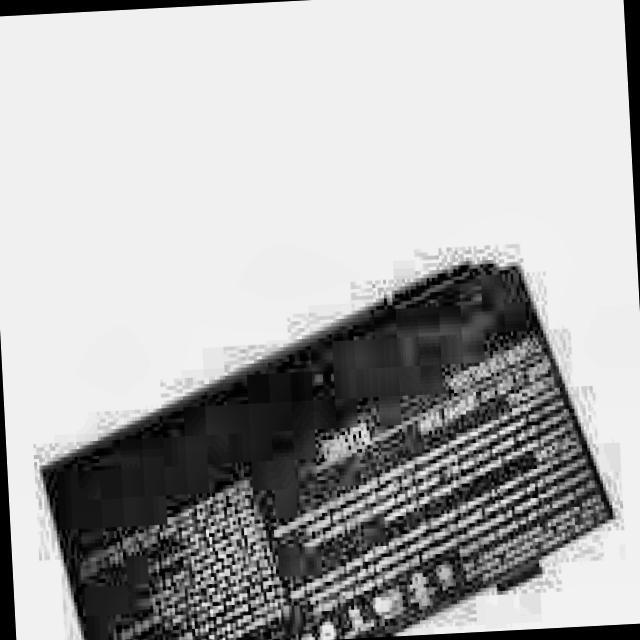Battery: (34, 257, 621, 640)
